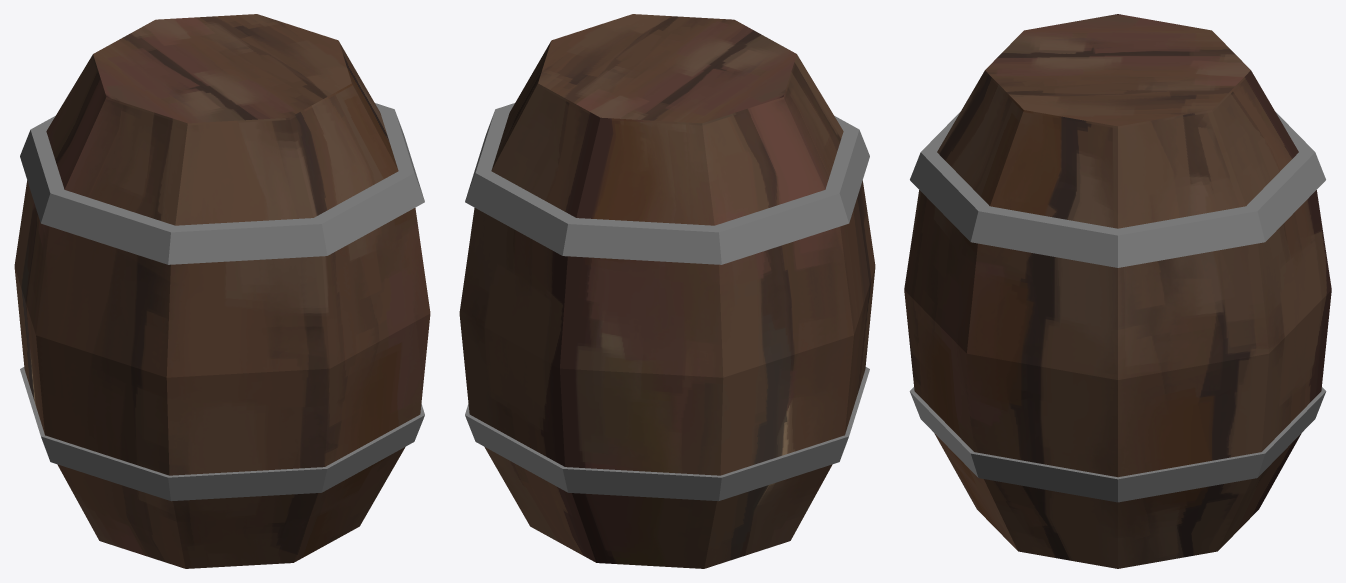
Rendered from Bucket.fbx.
The picture shows the model from 3 angles, left to right: view 1: azimuth 30°, elevation 25°; view 2: azimuth 150°, elevation 25°; view 3: azimuth 270°, elevation 25°; orthographic projection.
Parts seen in each view (by area): view 1: 柱体; view 2: 柱体; view 3: 柱体.
Boxes of the visible parts, x1,y1,x2,y2 form: 柱体: [14, 14, 430, 568]; 柱体: [459, 14, 875, 568]; 柱体: [904, 14, 1331, 568].
Size of the model in its own units: 264 by 299 by 264.
2 materials, 1 textured.
